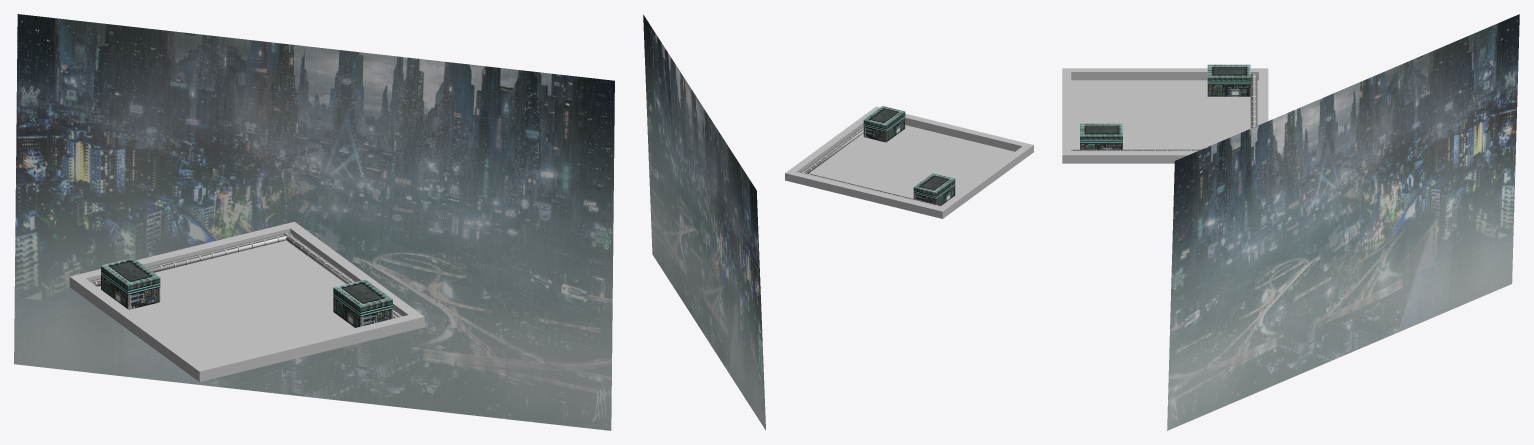
The model's file is stage_first.FBX.
3 renders of one model, left to right at view 1: azimuth 30°, elevation 25°; view 2: azimuth 150°, elevation 25°; view 3: azimuth 270°, elevation 25°, orthographic. The views are drawn at different scales.
Visible parts, largest first — view 1: Plane004, Plane001, Plane003, Plane002, Cylinder001, Cylinder002; view 2: Plane004, Plane001, Plane002, Plane003, Cylinder002; view 3: Plane004, Plane001, Plane003, Plane002.
Boxes of the visible parts, x1,y1,x2,y2 form: Plane004: (14, 14, 614, 430); Plane001: (69, 221, 424, 381); Plane003: (101, 258, 160, 309); Plane002: (333, 279, 392, 327); Cylinder001: (90, 232, 292, 286); Cylinder002: (283, 232, 402, 318); Plane004: (643, 14, 765, 430); Plane001: (785, 106, 1033, 218); Plane002: (863, 106, 905, 142); Plane003: (913, 173, 955, 205); Cylinder002: (800, 127, 863, 173); Plane004: (1167, 14, 1519, 430); Plane001: (1062, 68, 1268, 163); Plane003: (1207, 64, 1250, 96); Plane002: (1080, 123, 1122, 149).
Size of the model in its own units: 216 by 146 by 222.
